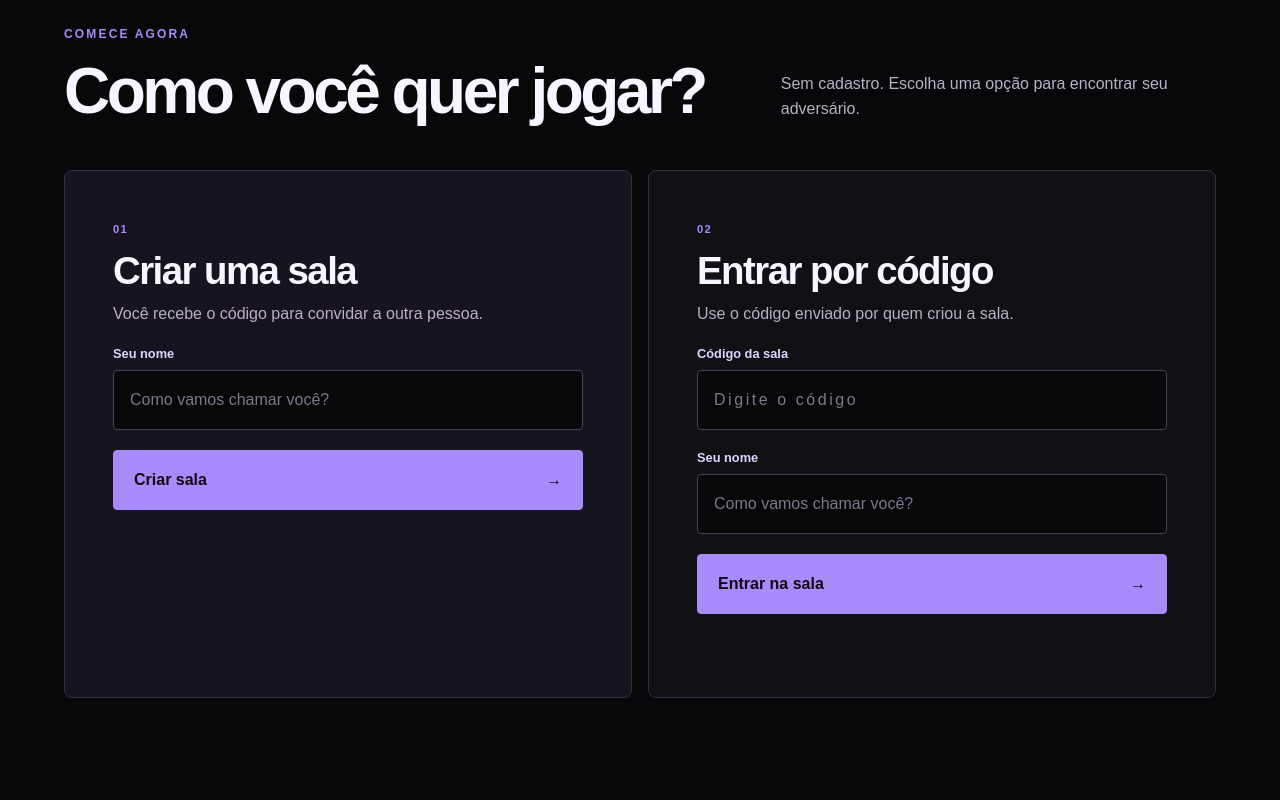
Test: RoomAccess › anuncia um código inválido sem tentar entrar na sala
(page scrolled)
Step 1. Type "ABC123" into the field labelled "Código da sala" → (932, 400), box [697,370,1167,430]
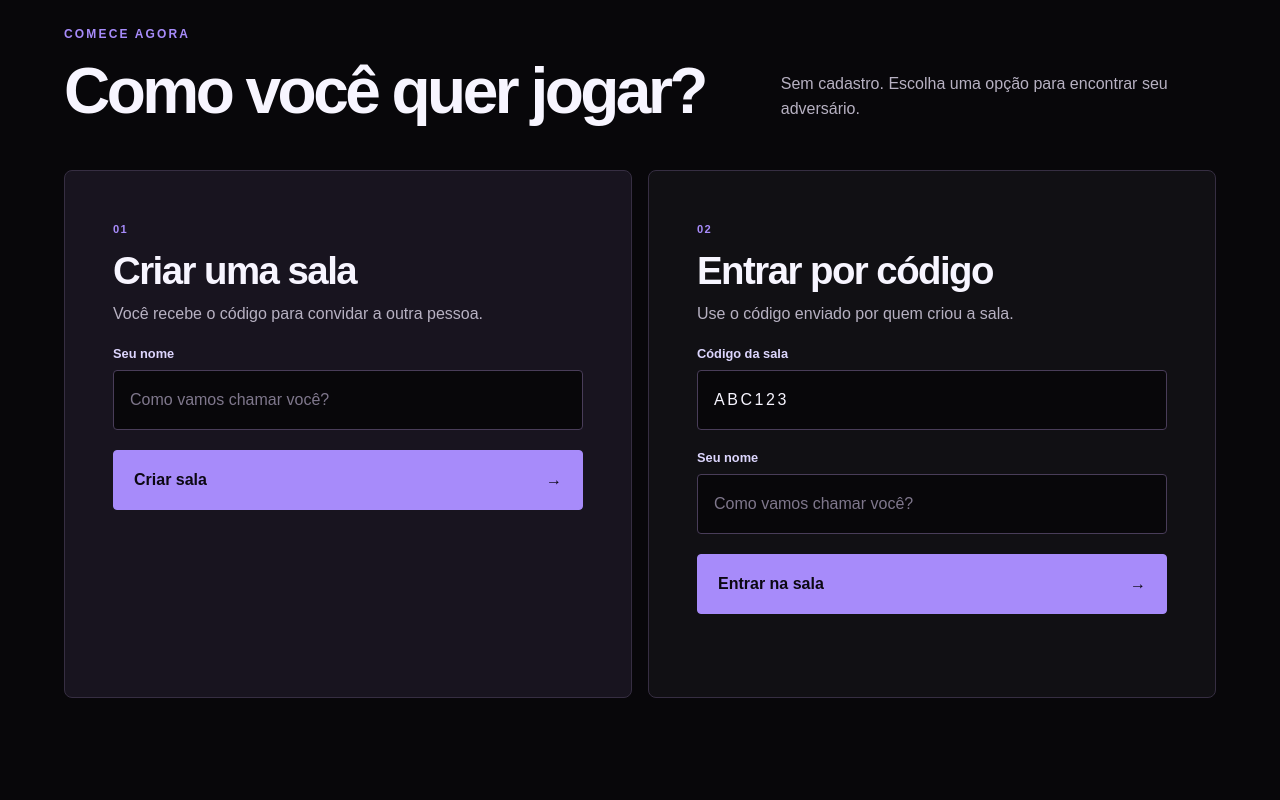
Step 2. Type "Bruno" into the field labelled "Seu nome" below "Código da sala" → (932, 504), box [697,474,1167,534]
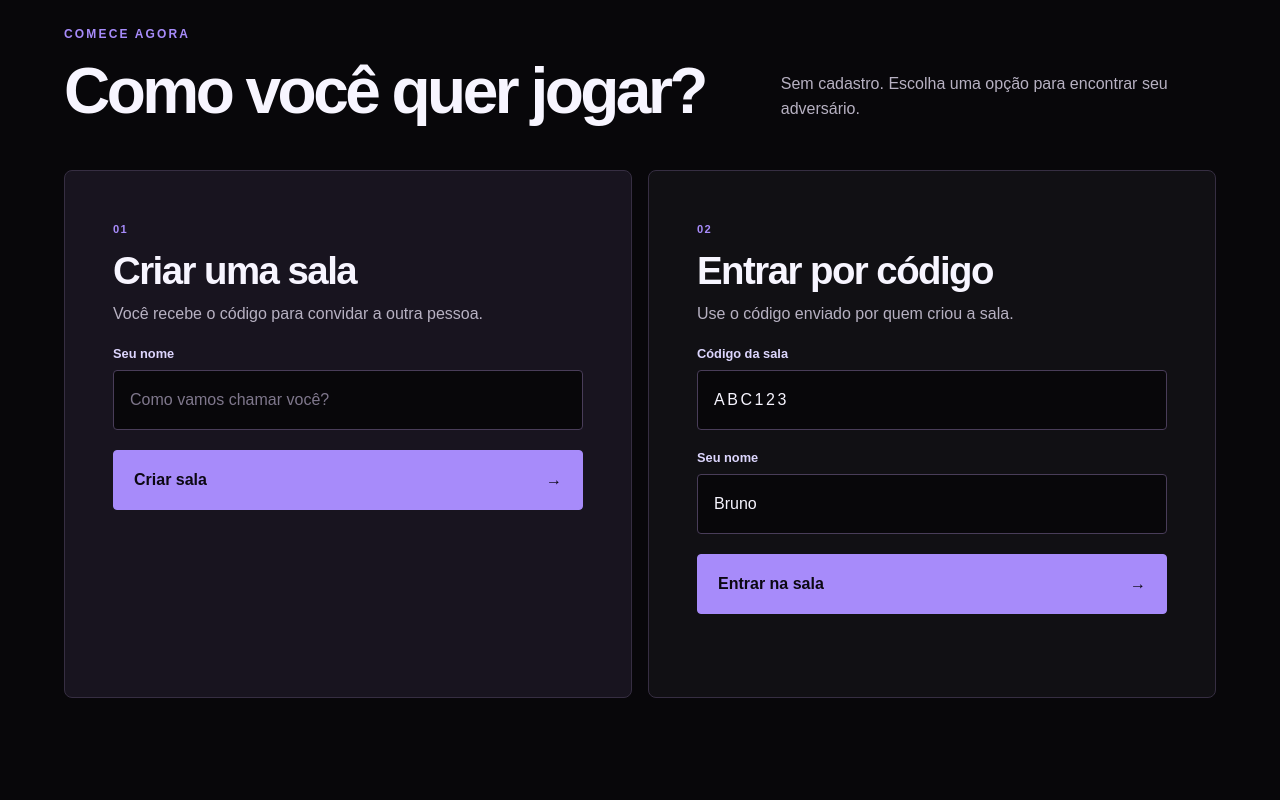
Step 3. Click the button "Entrar na sala →" → (771, 583), box [697,554,1167,614]
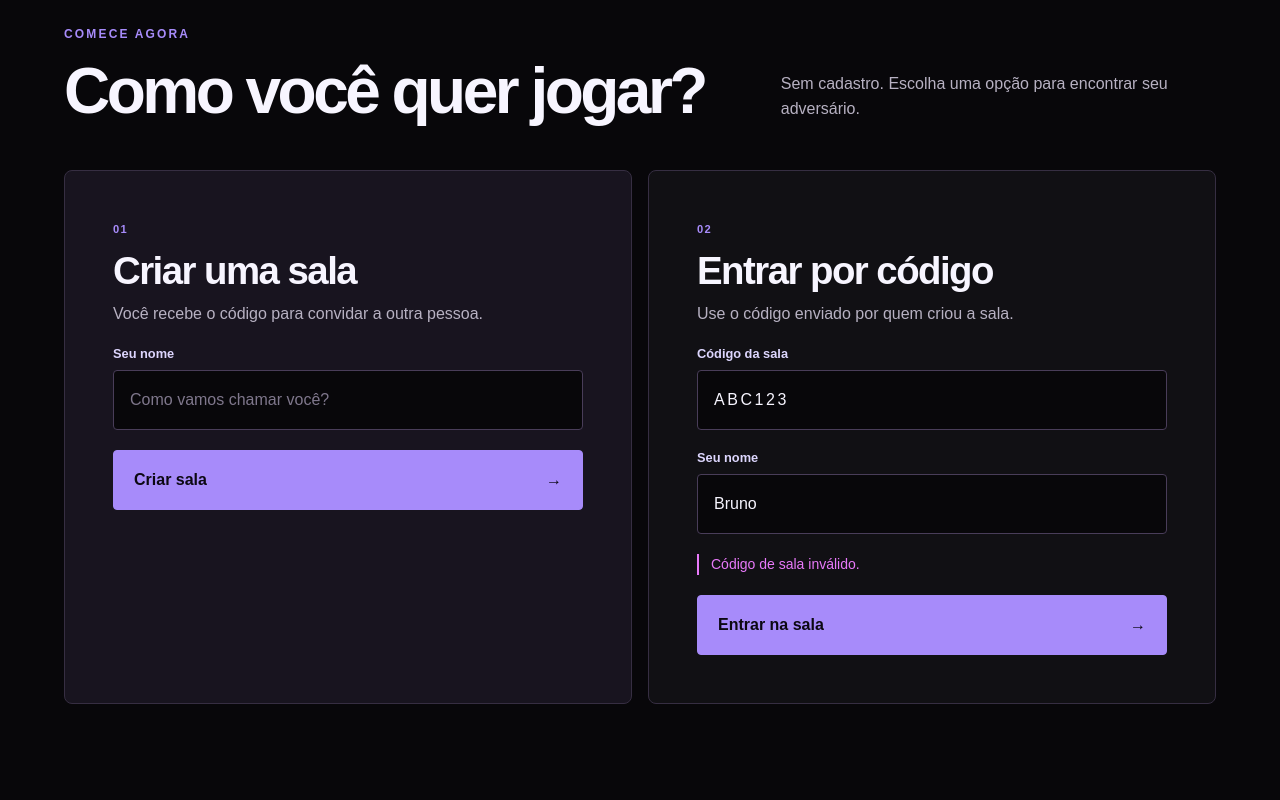
Expected: the message reads "Código de sala inválido.", [711,556,860,572]
